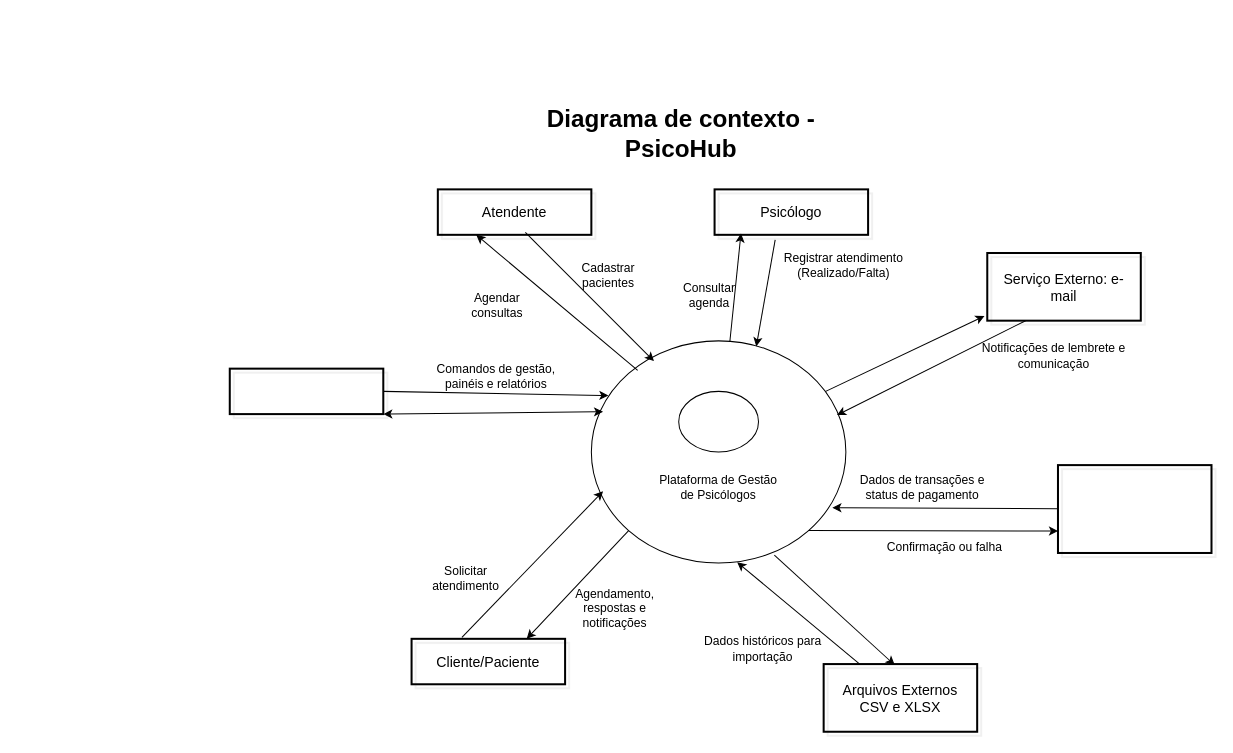
This 1233x753 diagram has some shape labels left out. The shapes that lost their labels are listed below. From the top down, each one's centre as x and y in pixels, then its label:
At pixel 308 393: "Administrador".
At pixel 718 421: "PsicoHub".
At pixel 1136 511: "Provedor de Pagamento: Pix e Cartão".
